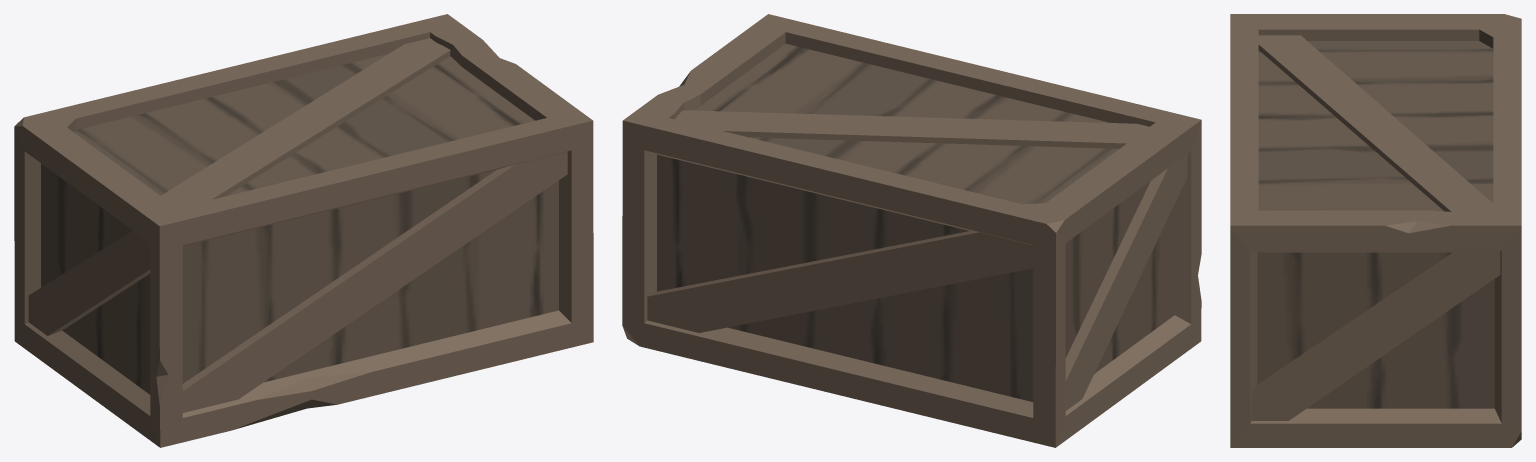
Rendered from SM_Prop_Crate_01.glb.
3 views of the same model, side by side, from view 1: azimuth 30°, elevation 25°; view 2: azimuth 150°, elevation 25°; view 3: azimuth 270°, elevation 25° (orthographic).
Parts seen in each view (by area): view 1: SM_Prop_Crate_01; view 2: SM_Prop_Crate_01; view 3: SM_Prop_Crate_01.
Part boxes in pixels (bbox=[...]): SM_Prop_Crate_01: bbox=[14, 14, 593, 447]; SM_Prop_Crate_01: bbox=[622, 14, 1201, 447]; SM_Prop_Crate_01: bbox=[1230, 14, 1521, 447].
Bounding box in the file's own units: 1.03 × 0.5019 × 0.5971.
1 material, 1 textured.
